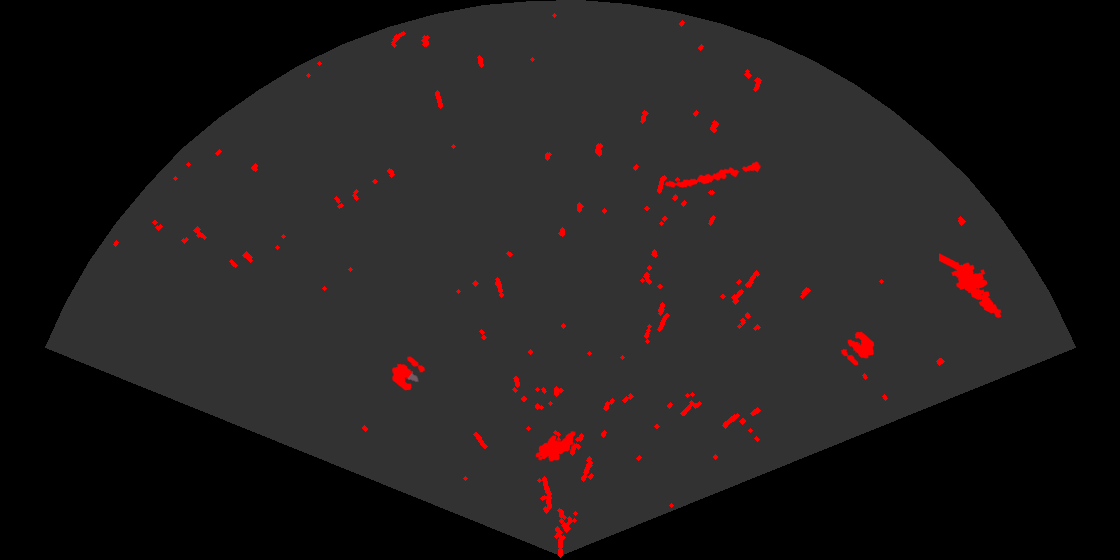AUV: (534, 430, 577, 463)
ball: (390, 355, 427, 392), (839, 330, 876, 367)
chain: (663, 160, 763, 189)
frogman: (939, 252, 1003, 320)
